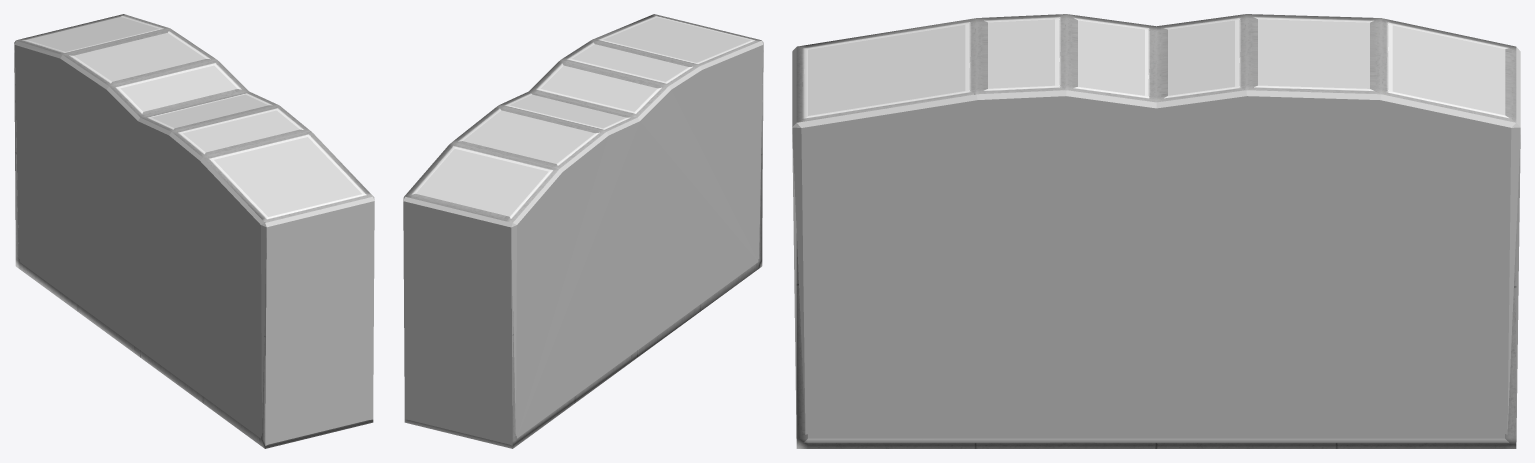
The model's file is s_gm_crawl_07.dae.
The picture shows the model from 3 angles, left to right: view 1: azimuth 30°, elevation 25°; view 2: azimuth 150°, elevation 25°; view 3: azimuth 270°, elevation 25°; orthographic projection. The views are drawn at different scales.
Parts seen in each view (by area): view 1: Colmesh_crawl_07-1, crawl_07_a25, crawl_07_a100; view 2: Colmesh_crawl_07-1, crawl_07_a25, crawl_07_a100; view 3: Colmesh_crawl_07-1, crawl_07_a25, crawl_07_a100.
Part boxes in pixels (x1,y1,x2,y2): Colmesh_crawl_07-1: (14, 40, 374, 445); crawl_07_a25: (27, 17, 361, 216); crawl_07_a100: (15, 14, 373, 448); Colmesh_crawl_07-1: (403, 40, 763, 445); crawl_07_a25: (416, 17, 750, 216); crawl_07_a100: (404, 14, 762, 448); Colmesh_crawl_07-1: (792, 47, 1520, 441); crawl_07_a25: (808, 19, 1505, 115); crawl_07_a100: (796, 14, 1516, 448).
Size of the model in its own units: 2.1 by 8.1 by 4.4.
